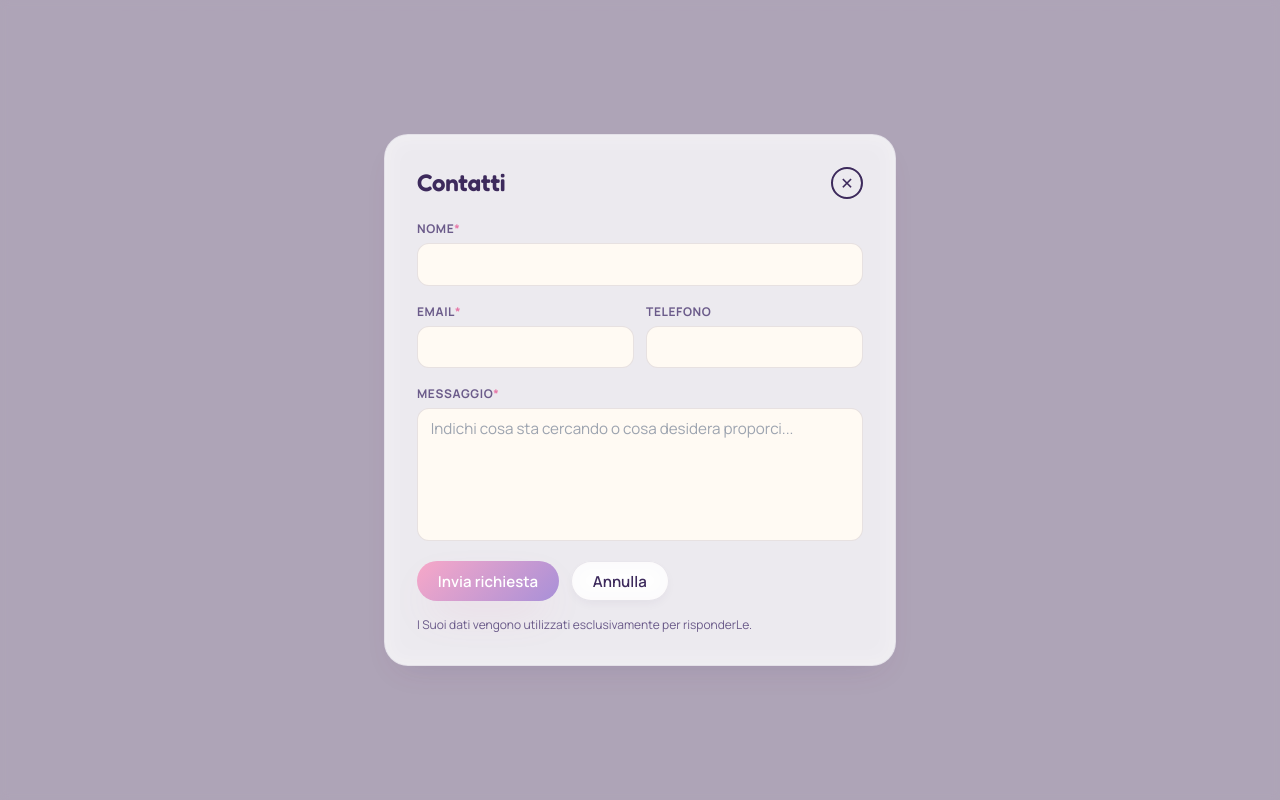
Test: InquiryDialog › se submitInquiry rigetta, mostra l'errore
The width and height of the screenshot is (1280, 800).
Step 1. Type "X" into the field labelled "Nome*" → (640, 264), box [417, 243, 863, 286]
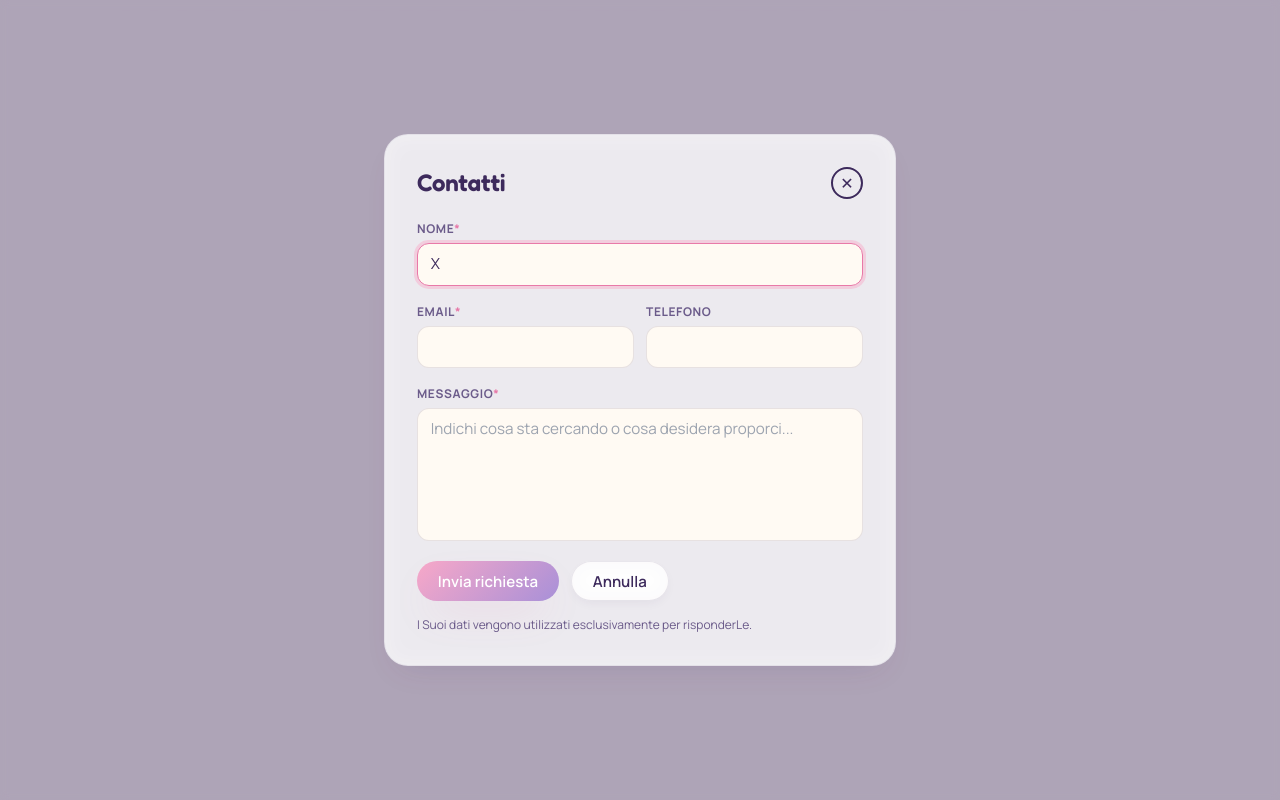
Step 2. Type "x@x.it" into the field labelled "Email*" → (526, 347), box [417, 326, 634, 368]
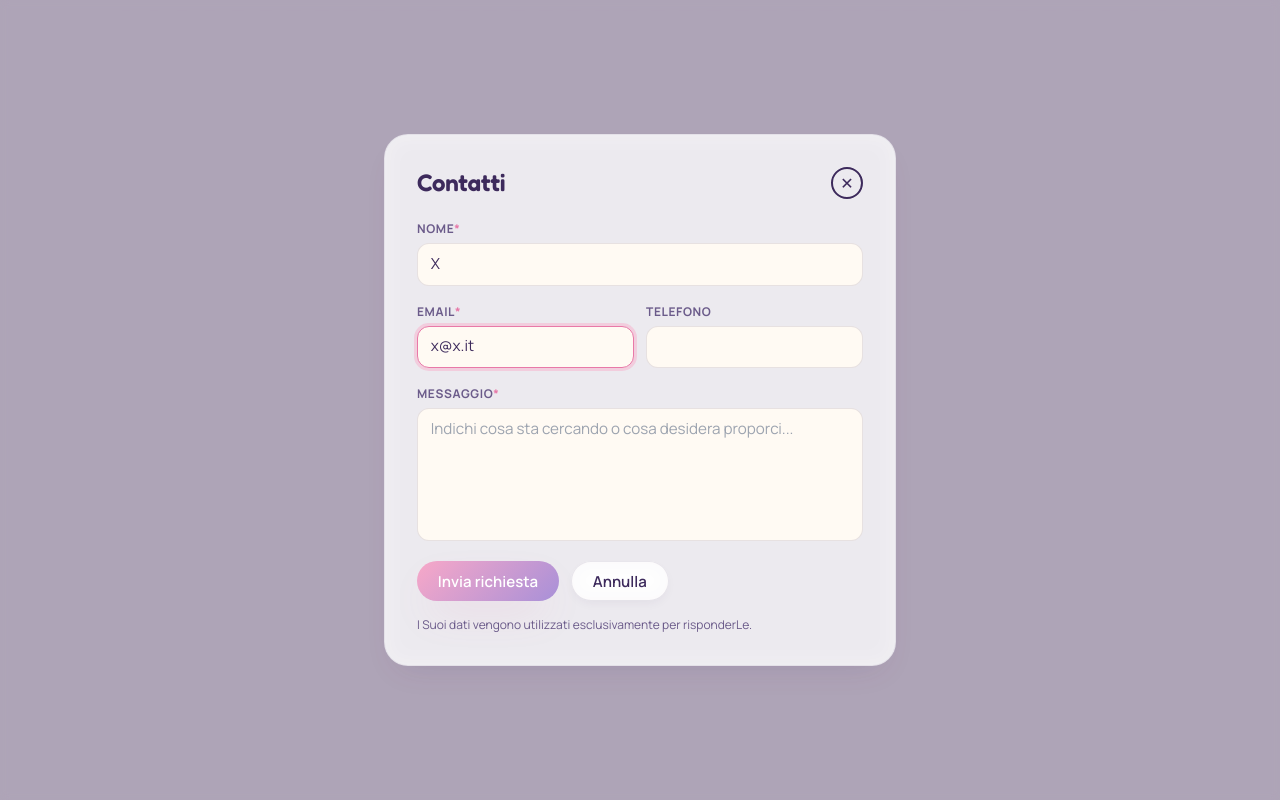
Step 3. Type "test errore display" into the text box labelled "Messaggio*" → (640, 475), box [417, 408, 863, 541]
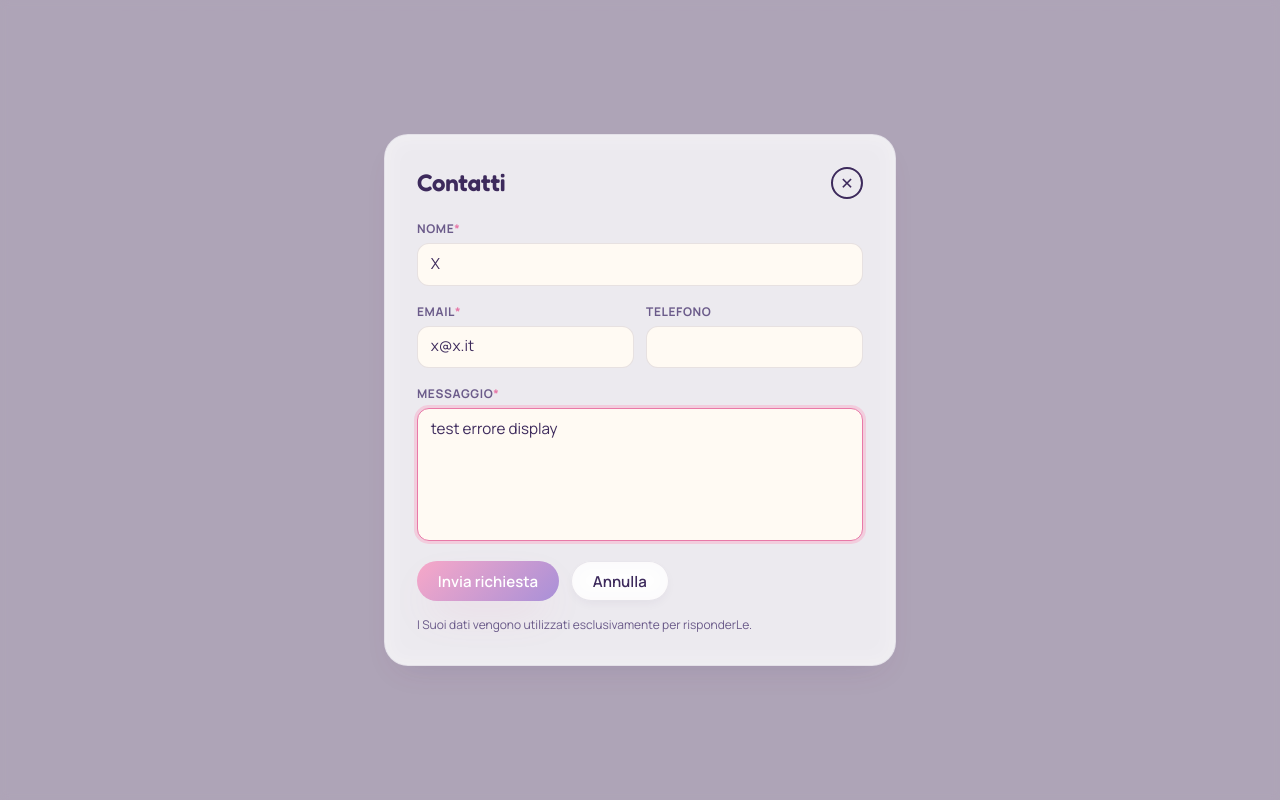
Step 4. Click the button "Invia richiesta" → (488, 581), box [417, 561, 559, 601]
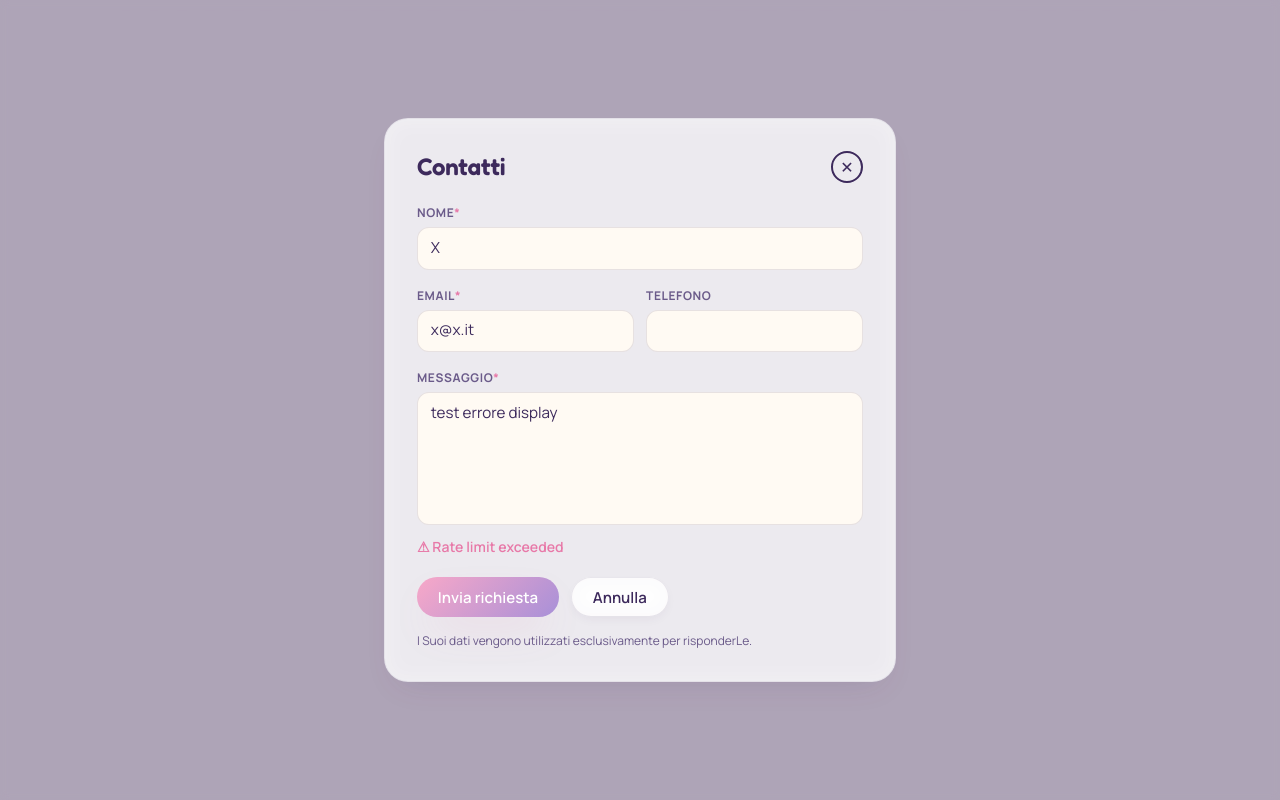
expect the text "⚠ Rate limit exceeded" is shown: met, box [417, 537, 564, 556]
